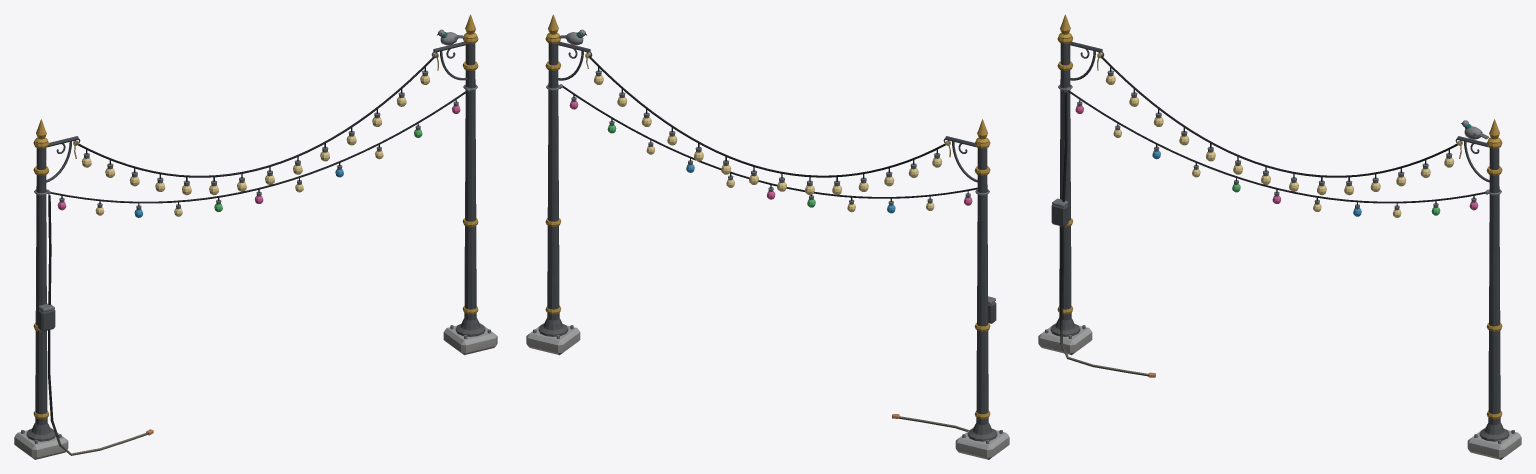
The model's file is string-light-strand.glb.
3 renders of one model, left to right at view 1: azimuth 30°, elevation 25°; view 2: azimuth 150°, elevation 25°; view 3: azimuth 330°, elevation 25°, orthographic.
Visible parts, largest first — view 1: string_light_strand; view 2: string_light_strand; view 3: string_light_strand.
Boxes of the visible parts, bbox=[...] form: string_light_strand: bbox=[14, 14, 497, 459]; string_light_strand: bbox=[526, 14, 1009, 459]; string_light_strand: bbox=[1038, 14, 1521, 459].
Size of the model in its own units: 4.34 by 2.95 by 0.4302.
